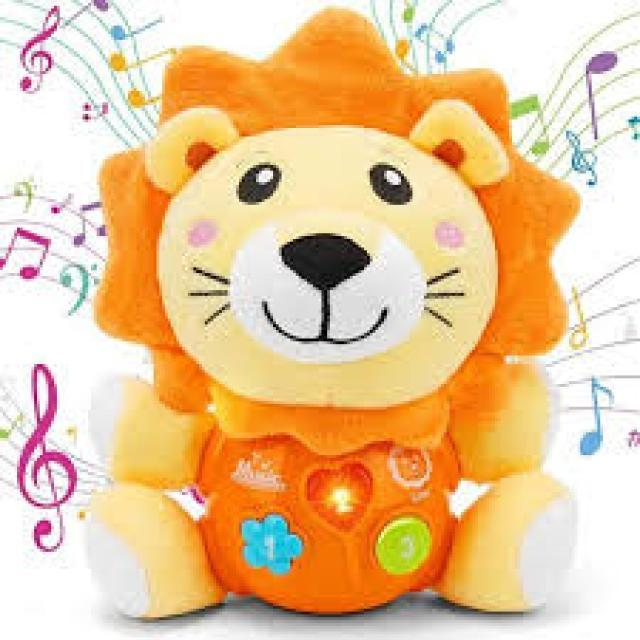soft-toy: (92, 9, 579, 616)
